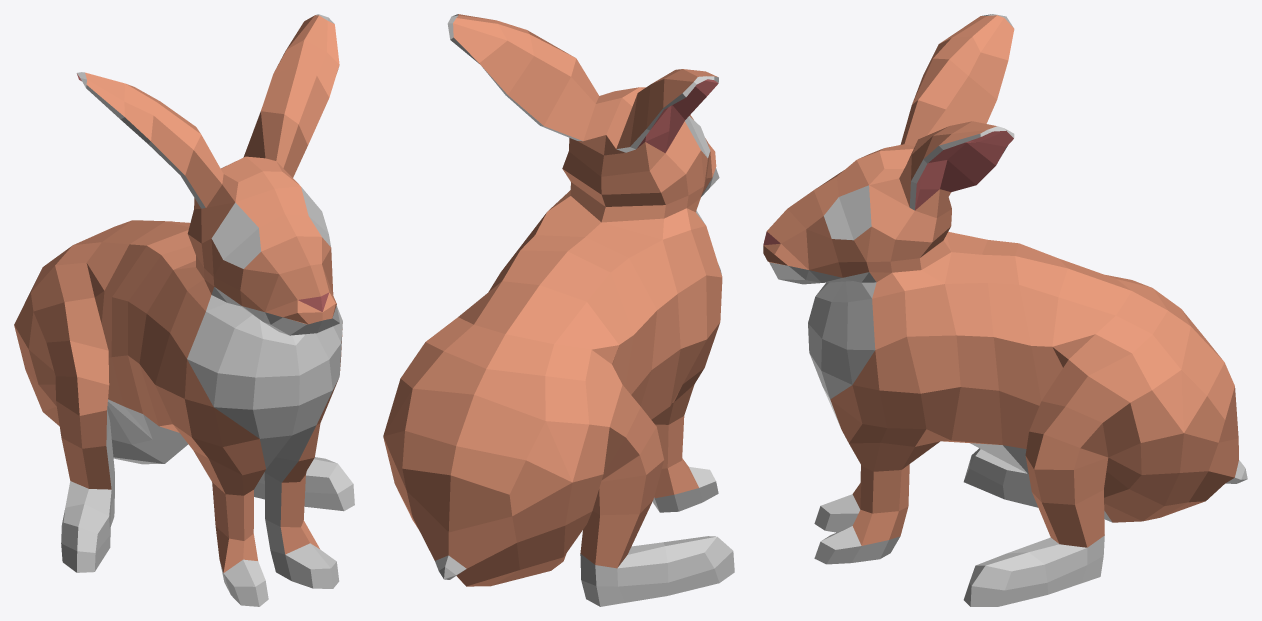
Rendered from r_rabbit.fbx.
The picture shows the model from 3 angles, left to right: view 1: azimuth 30°, elevation 25°; view 2: azimuth 150°, elevation 25°; view 3: azimuth 270°, elevation 25°; orthographic projection. The views are drawn at different scales.
Parts seen in each view (by area): view 1: Cylinder; view 2: Cylinder; view 3: Cylinder.
Part boxes in pixels (x1,y1,x2,y2): Cylinder: (14, 14, 354, 606); Cylinder: (383, 14, 734, 606); Cylinder: (763, 14, 1247, 606).
Bounding box in the file's own units: 45 × 75 × 70.
